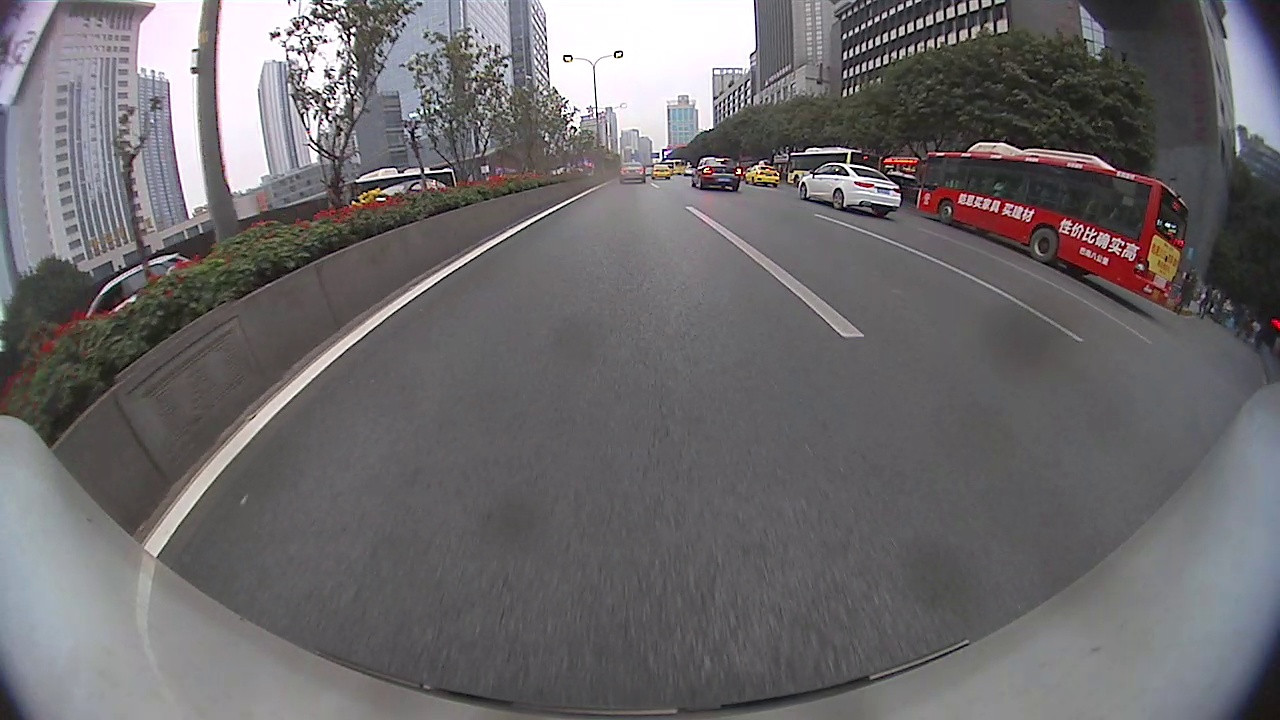bus: (917, 142, 1192, 307), (351, 165, 458, 201), (786, 145, 867, 185)
car: (83, 253, 194, 320), (796, 161, 903, 218), (691, 157, 743, 192), (746, 161, 782, 188), (618, 162, 647, 184)
front: (938, 200, 958, 225), (798, 182, 809, 198)
rear: (1029, 224, 1059, 266), (831, 190, 846, 212)
